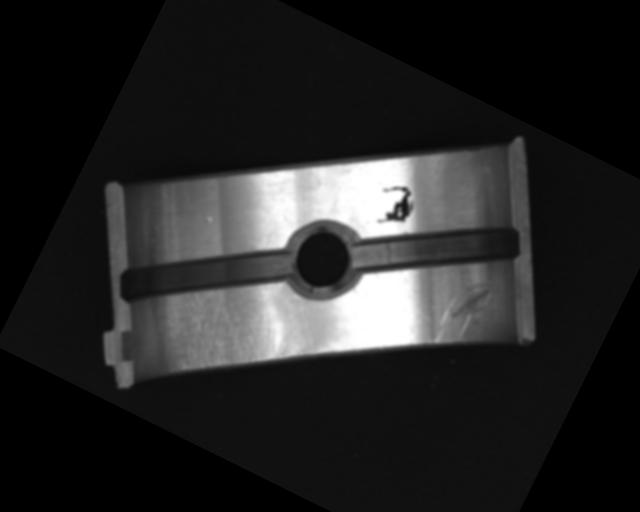blot: (367, 176, 421, 235)
bruise: (201, 212, 214, 226)
gap: (111, 191, 298, 361), (349, 171, 528, 331)
hole: (271, 207, 373, 308)
nick: (429, 267, 499, 359)
scratch: (135, 268, 312, 422)
